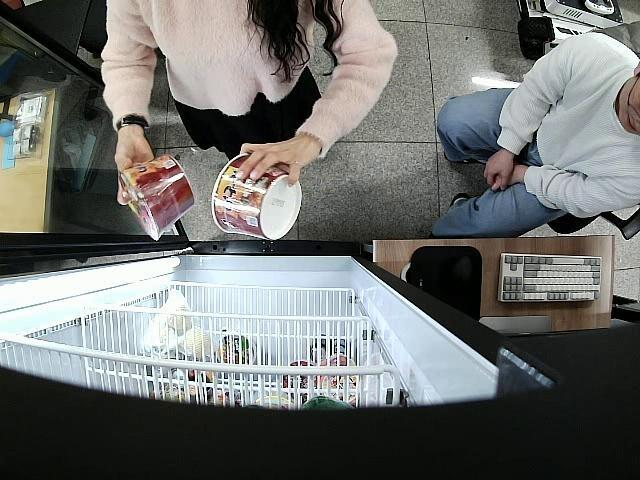05_nuguri_L: (211, 152, 302, 241), (120, 154, 196, 240)
